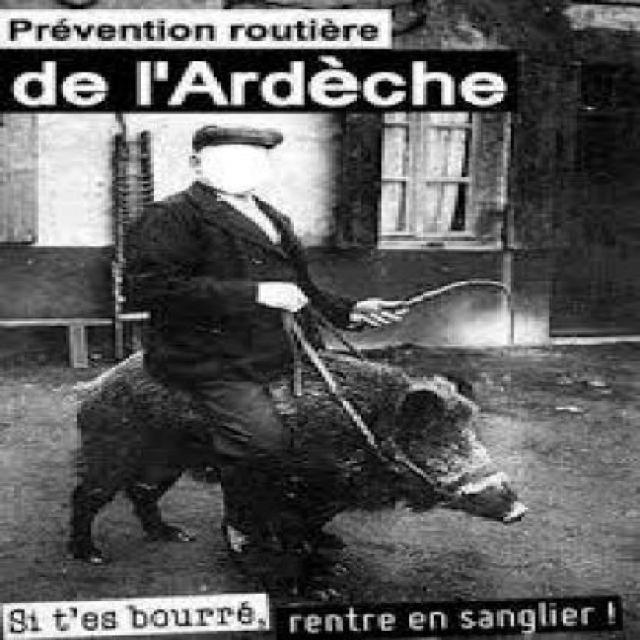wildboar: (48, 337, 526, 588)
